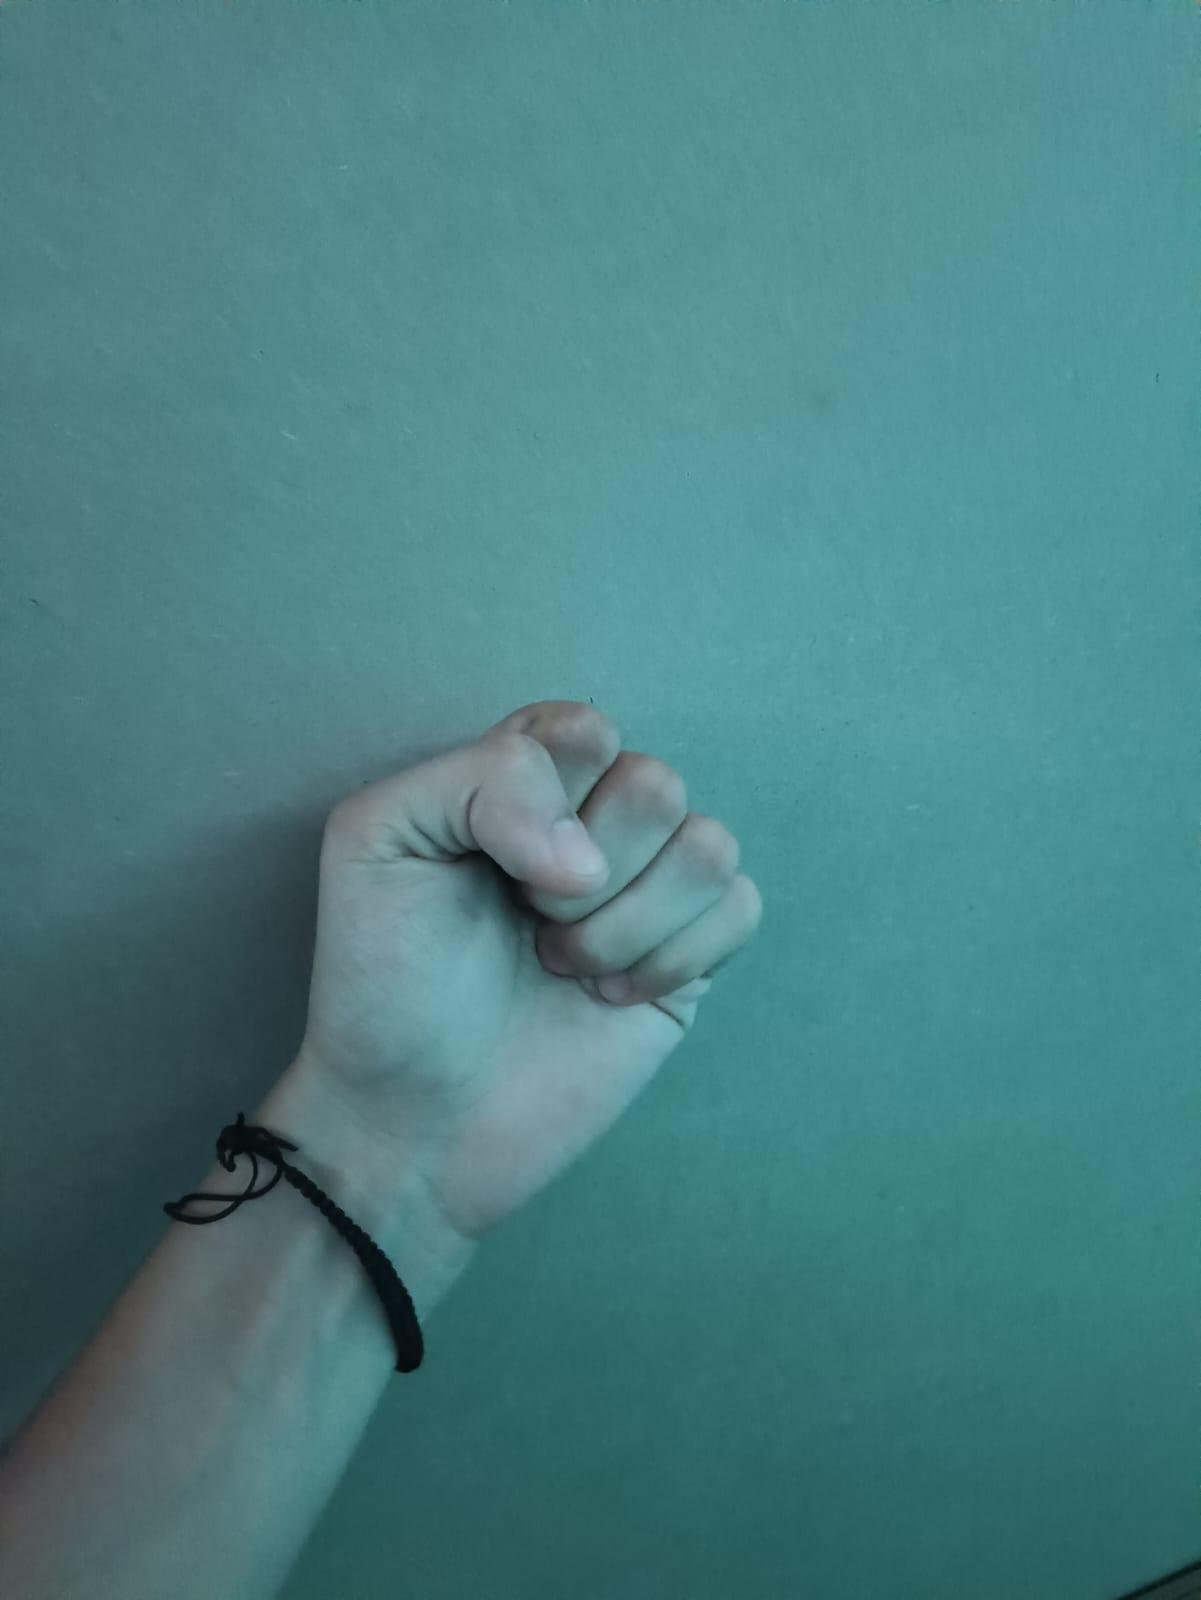Stone: (93, 630, 847, 1476)
